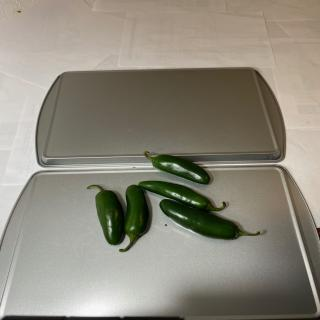Chilli: (138, 180, 226, 212), (143, 150, 211, 185)
Tomato: (159, 198, 260, 240), (86, 184, 125, 246), (119, 184, 149, 252)
